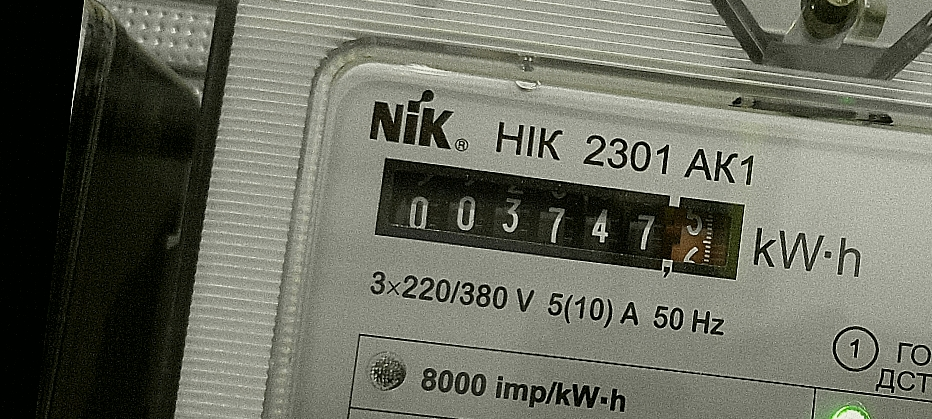0: (452, 192, 477, 232), (405, 193, 430, 230)
3: (498, 196, 521, 234)
4: (587, 204, 612, 246)
5: (682, 207, 704, 237)
6: (679, 242, 700, 265)
7: (630, 210, 657, 252), (542, 204, 565, 245)
screen: (362, 146, 760, 296)
